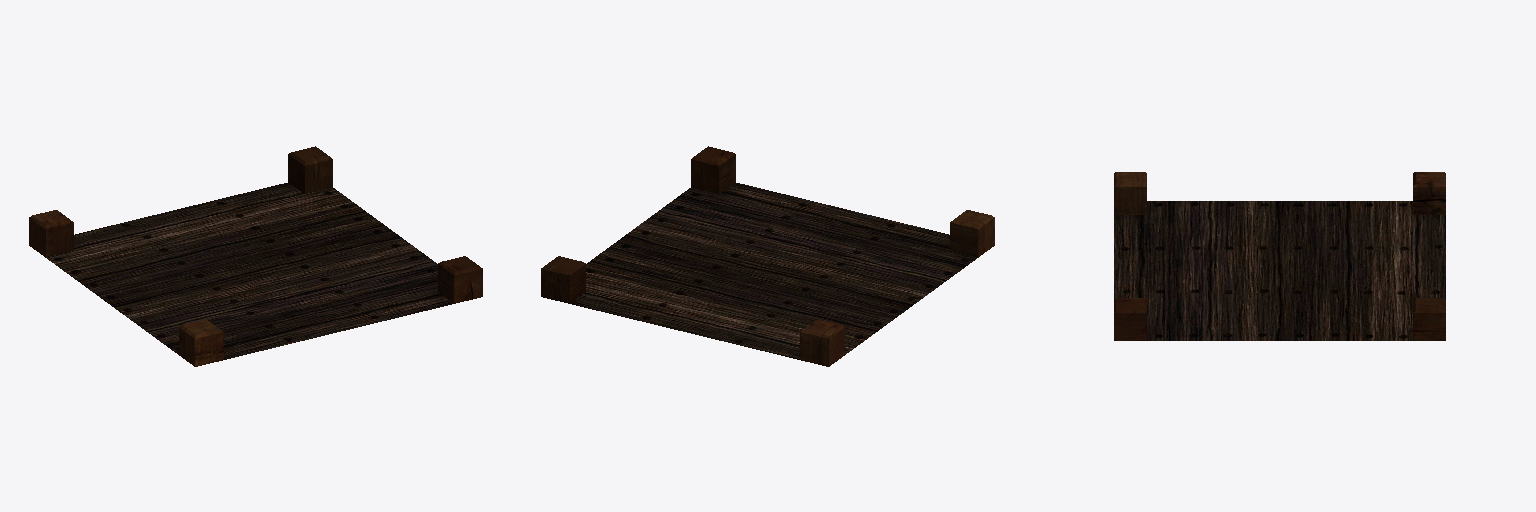
3 views of the same model, side by side, from view 1: azimuth 30°, elevation 25°; view 2: azimuth 150°, elevation 25°; view 3: azimuth 270°, elevation 25° (orthographic).
Parts seen in each view (by area): view 1: Roof001_Flat011; view 2: Roof001_Flat011; view 3: Roof001_Flat011.
Boxes of the visible parts, x1,y1,x2,y2 form: Roof001_Flat011: [29, 146, 482, 366]; Roof001_Flat011: [541, 146, 994, 366]; Roof001_Flat011: [1114, 172, 1445, 340].
Bounding box in the file's own units: 128 × 13 × 128.
1 materials, 1 textured.